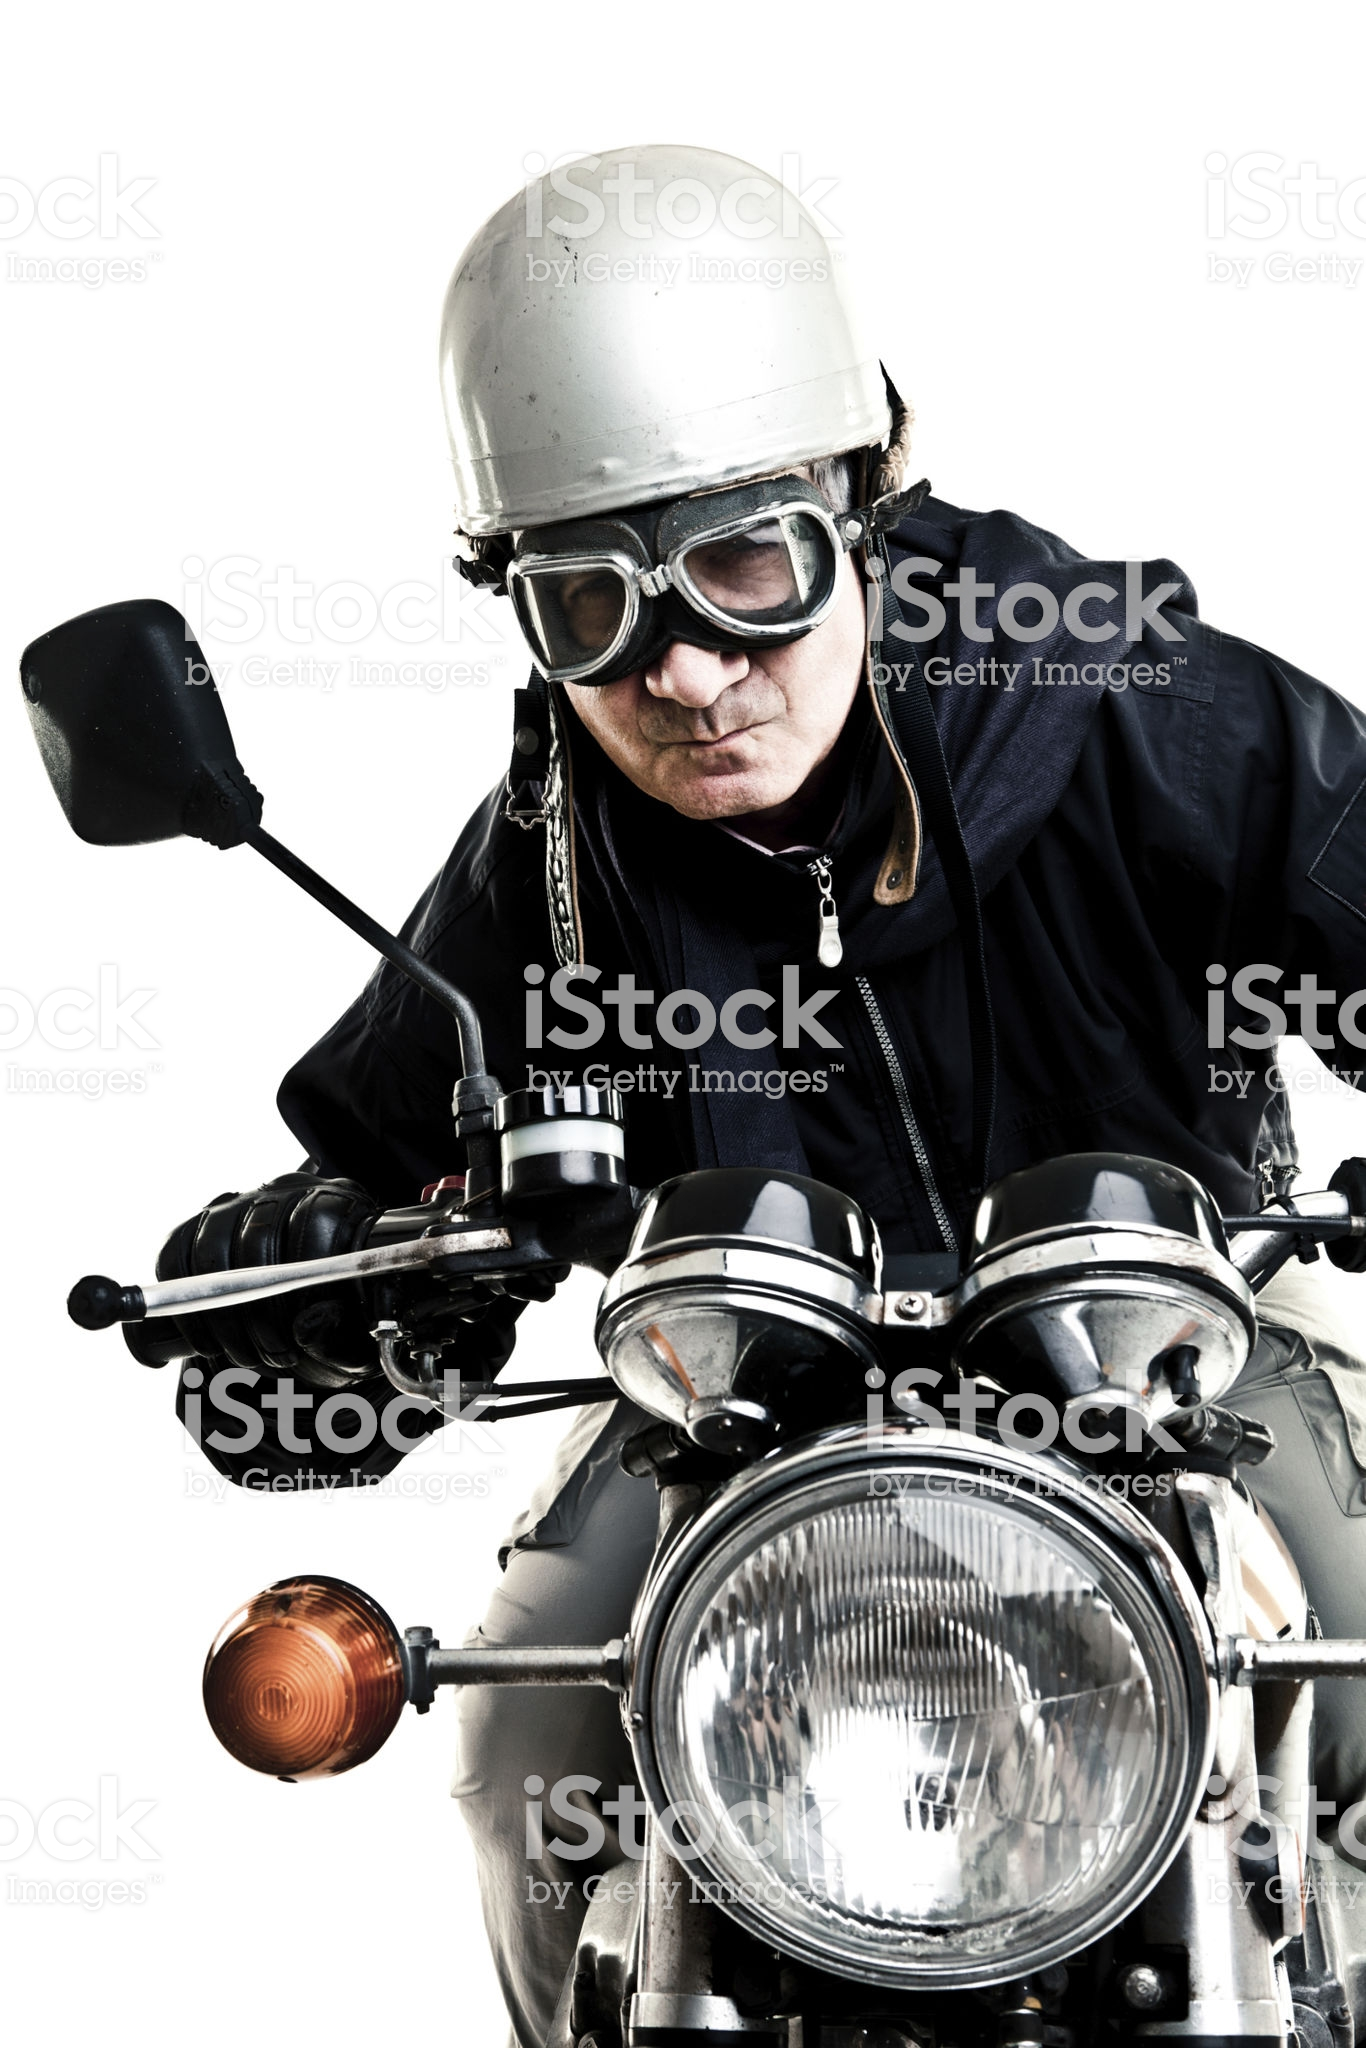helmet: (392, 131, 925, 503)
